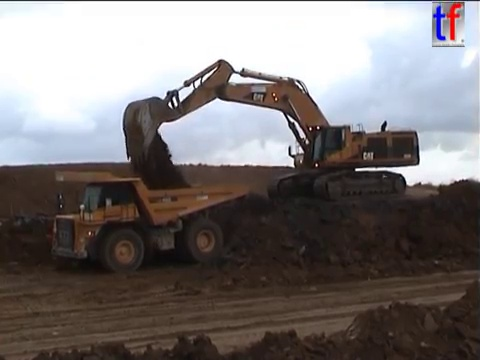excavator: (119, 57, 422, 204)
truck: (44, 168, 247, 274)
